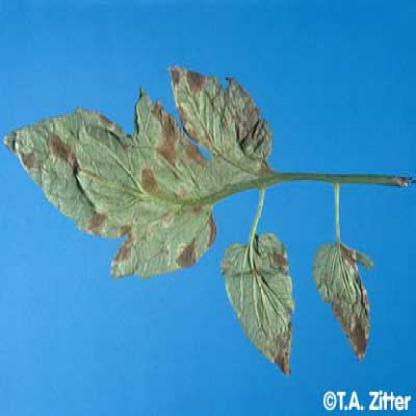Tomato mold leaf: (3, 53, 274, 286), (221, 227, 308, 378), (312, 240, 381, 359)
